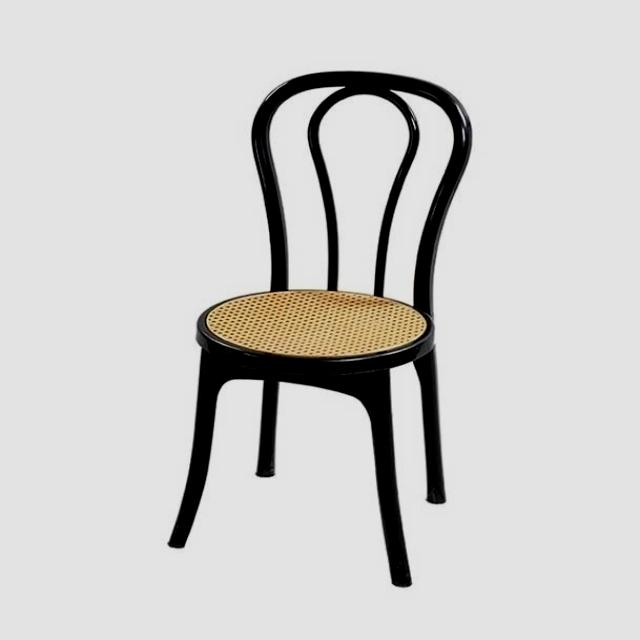Chair: (163, 71, 482, 591)
